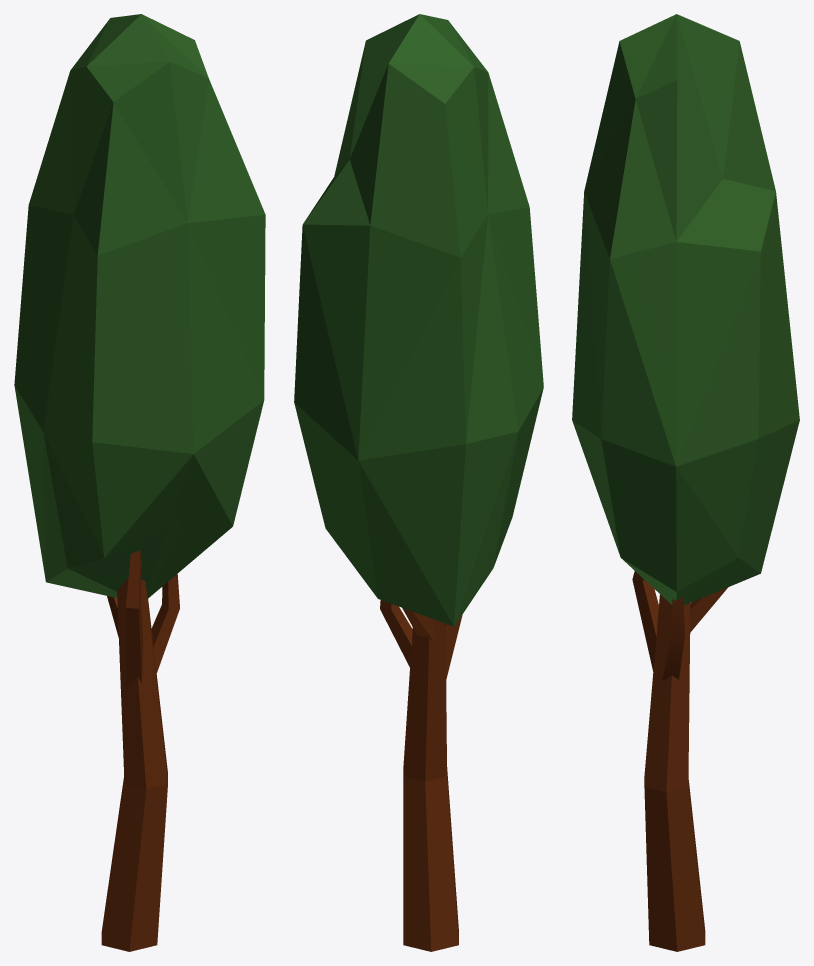
Rendered from tree_04.glb.
3 renders of one model, left to right at view 1: azimuth 30°, elevation 25°; view 2: azimuth 150°, elevation 25°; view 3: azimuth 270°, elevation 25°, orthographic.
Parts seen in each view (by area): view 1: Tree_temp_climate_004; view 2: Tree_temp_climate_004; view 3: Tree_temp_climate_004.
Boxes of the visible parts, bbox=[...] form: Tree_temp_climate_004: bbox=[14, 14, 265, 951]; Tree_temp_climate_004: bbox=[294, 14, 543, 951]; Tree_temp_climate_004: bbox=[572, 14, 799, 951].
Size of the model in its own units: 0.0646 by 0.2702 by 0.06.
1 material, 1 textured.
